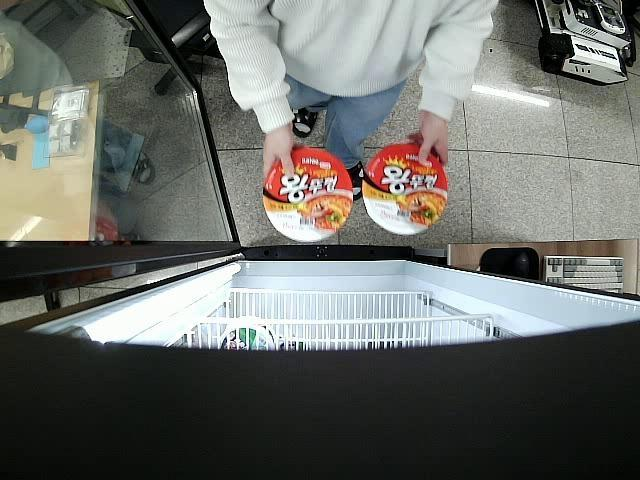10_wangTtukkeong: (263, 147, 352, 242), (362, 144, 450, 238)
